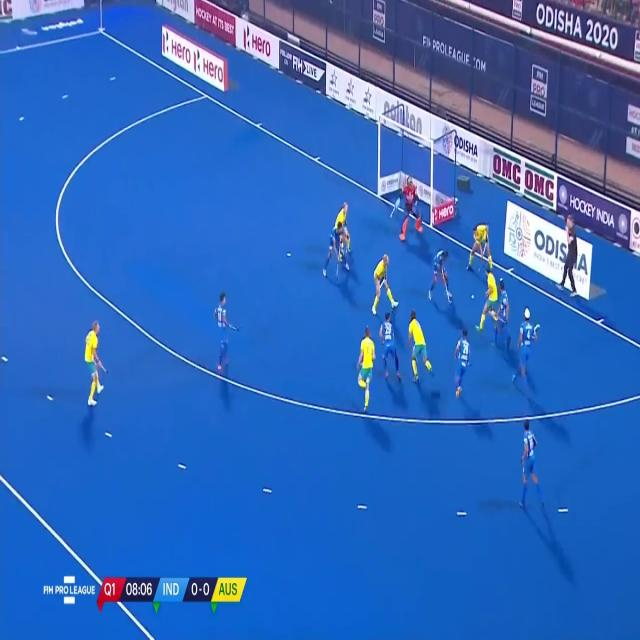ball: (470, 294, 474, 300)
